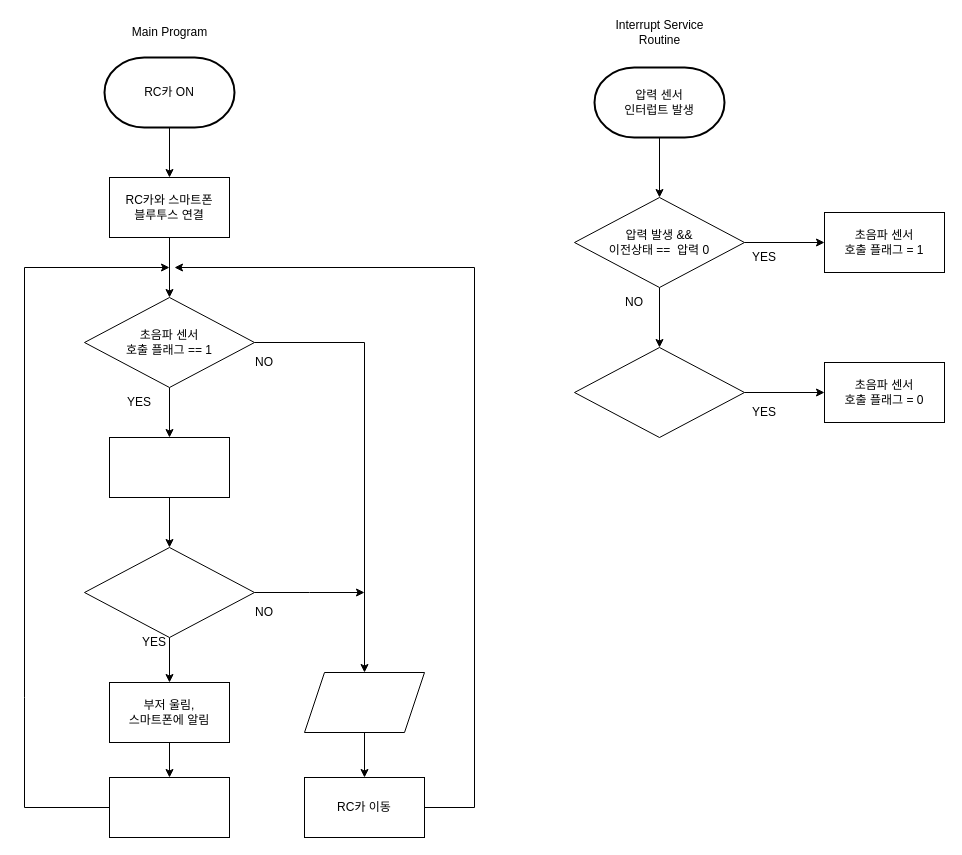
Image size: 962x855. Some labels were removed from this diagram. The shapes that lost their labels are listed below. From the top down, each one's centre as x and y in pixels, then its label:
At [659,392]: "압력 미발생 && 이전상태 != 압력 0".
At [169,467]: "초음파센서로 Trigger 전송하여 거리 측정".
At [169,592]: "일정 거리 내에 장애물이 존재하는가?".
At [364,702]: "스마트폰에서 방향 입력".
At [169,807]: "RC카 멈춤".
